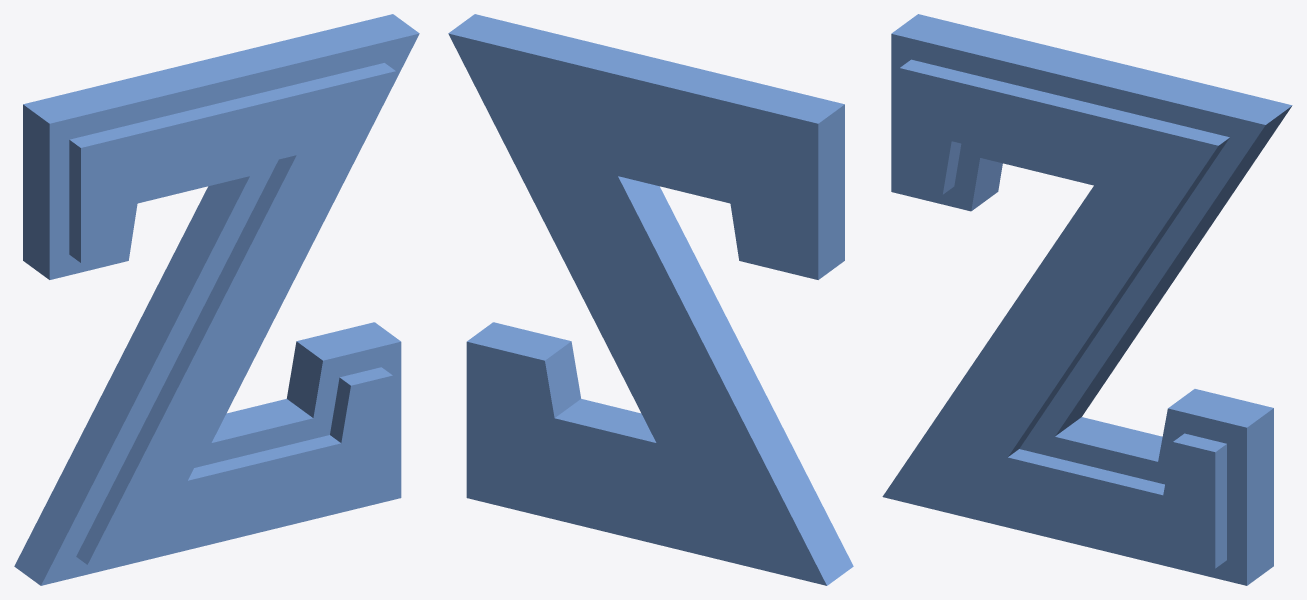
The model's file is uploads_files_2164812_Z2.FBX.
3 views of the same model, side by side, from view 1: azimuth 30°, elevation 25°; view 2: azimuth 150°, elevation 25°; view 3: azimuth 330°, elevation 25° (orthographic).
Parts seen in each view (by area): view 1: z; view 2: z; view 3: z.
Boxes of the visible parts, bbox=[...] form: z: bbox=[14, 14, 419, 585]; z: bbox=[448, 14, 853, 585]; z: bbox=[882, 14, 1292, 585].
Size of the model in its own units: 2.87 by 3.33 by 0.5.
